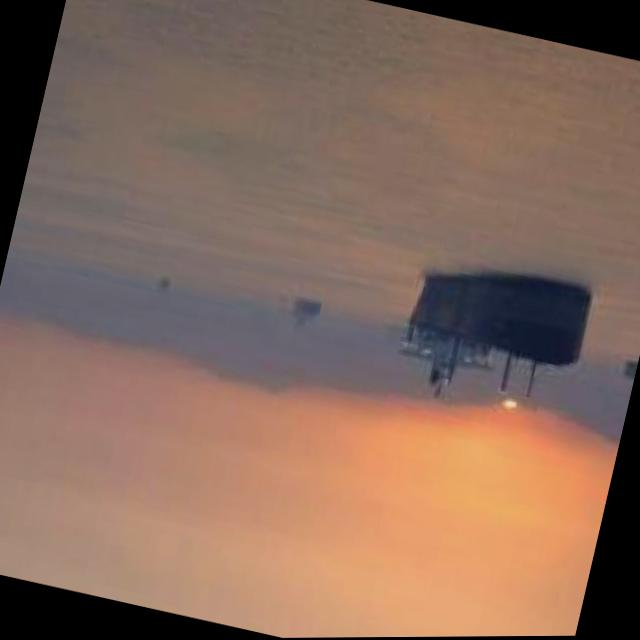ship2: (397, 273, 591, 399)
